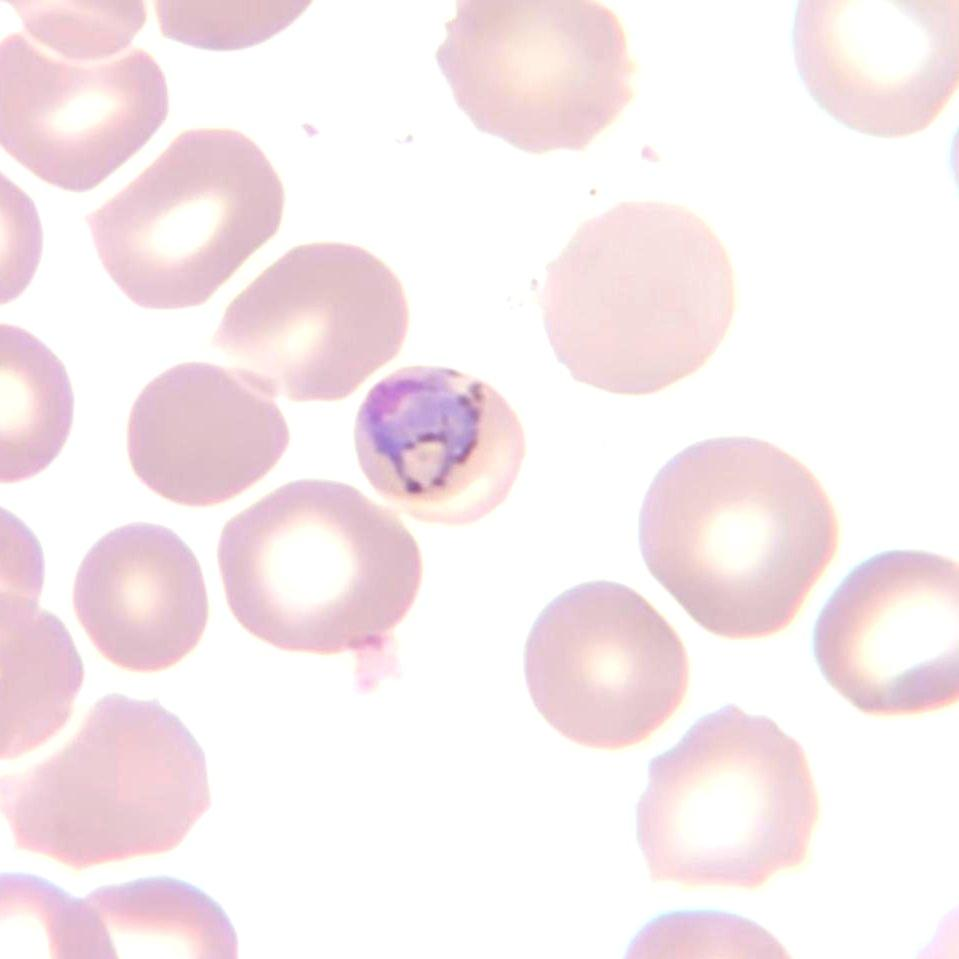Infected: (355, 361, 520, 526)
Uninfected: (640, 436, 828, 643), (540, 203, 738, 396), (88, 131, 290, 306), (635, 706, 827, 885), (5, 693, 212, 858), (222, 483, 417, 651), (215, 241, 413, 401), (520, 573, 688, 751), (442, 0, 632, 149), (0, 31, 165, 196), (127, 358, 292, 505), (815, 546, 959, 711), (790, 0, 957, 133), (75, 523, 213, 670)
